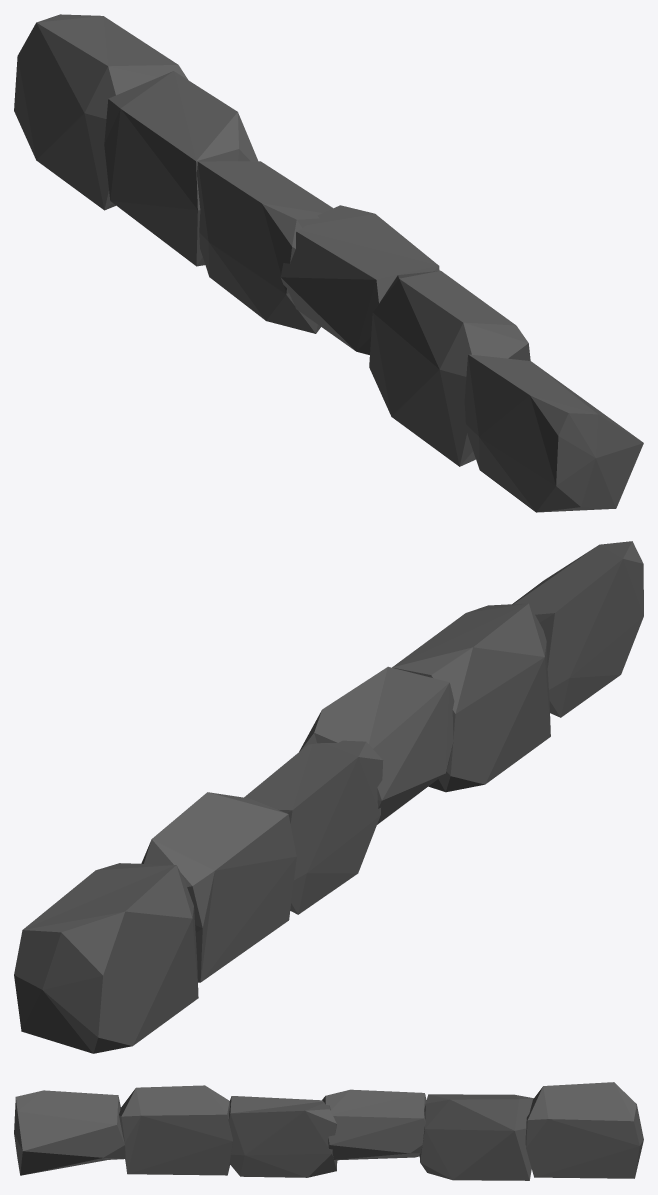
File: foundation_003.glb
3 renders of one model, top to bottom at view 1: azimuth 30°, elevation 25°; view 2: azimuth 150°, elevation 25°; view 3: azimuth 270°, elevation 25°, orthographic. The views are drawn at different scales.
Visible parts, largest first — view 1: foundation_003; view 2: foundation_003; view 3: foundation_003.
Part boxes in pixels (x1,y1,x2,y2): foundation_003: (14, 14, 643, 512); foundation_003: (14, 541, 643, 1053); foundation_003: (14, 1082, 643, 1180).
Size of the model in its own units: 1.29 by 1.57 by 11.31.
1 material, 1 textured.
